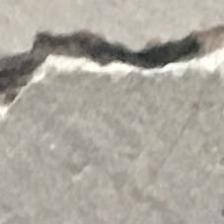Crack: (4, 18, 224, 116)
